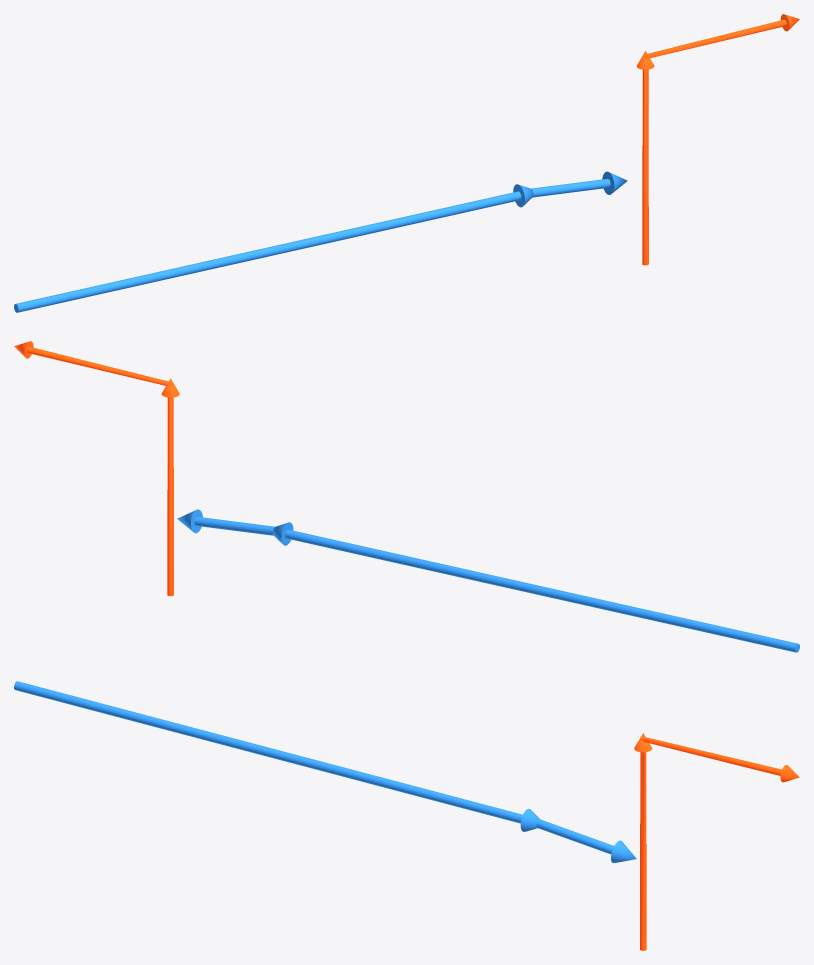
The model's file is open_drain_system_flow.glb.
3 renders of one model, top to bottom at view 1: azimuth 30°, elevation 25°; view 2: azimuth 150°, elevation 25°; view 3: azimuth 330°, elevation 25°, orthographic.
Visible parts, largest first — view 1: trench, to_ows; view 2: trench, to_ows; view 3: trench, to_ows.
Part boxes in pixels (x1,y1,x2,y2): trench: (14,171,627,312); to_ows: (636,14,799,265); trench: (177,509,799,652); to_ows: (14,341,179,596); trench: (14,681,636,863); to_ows: (634,733,799,950).
Size of the model in its own units: 3.93 by 1.04 by 0.141.
